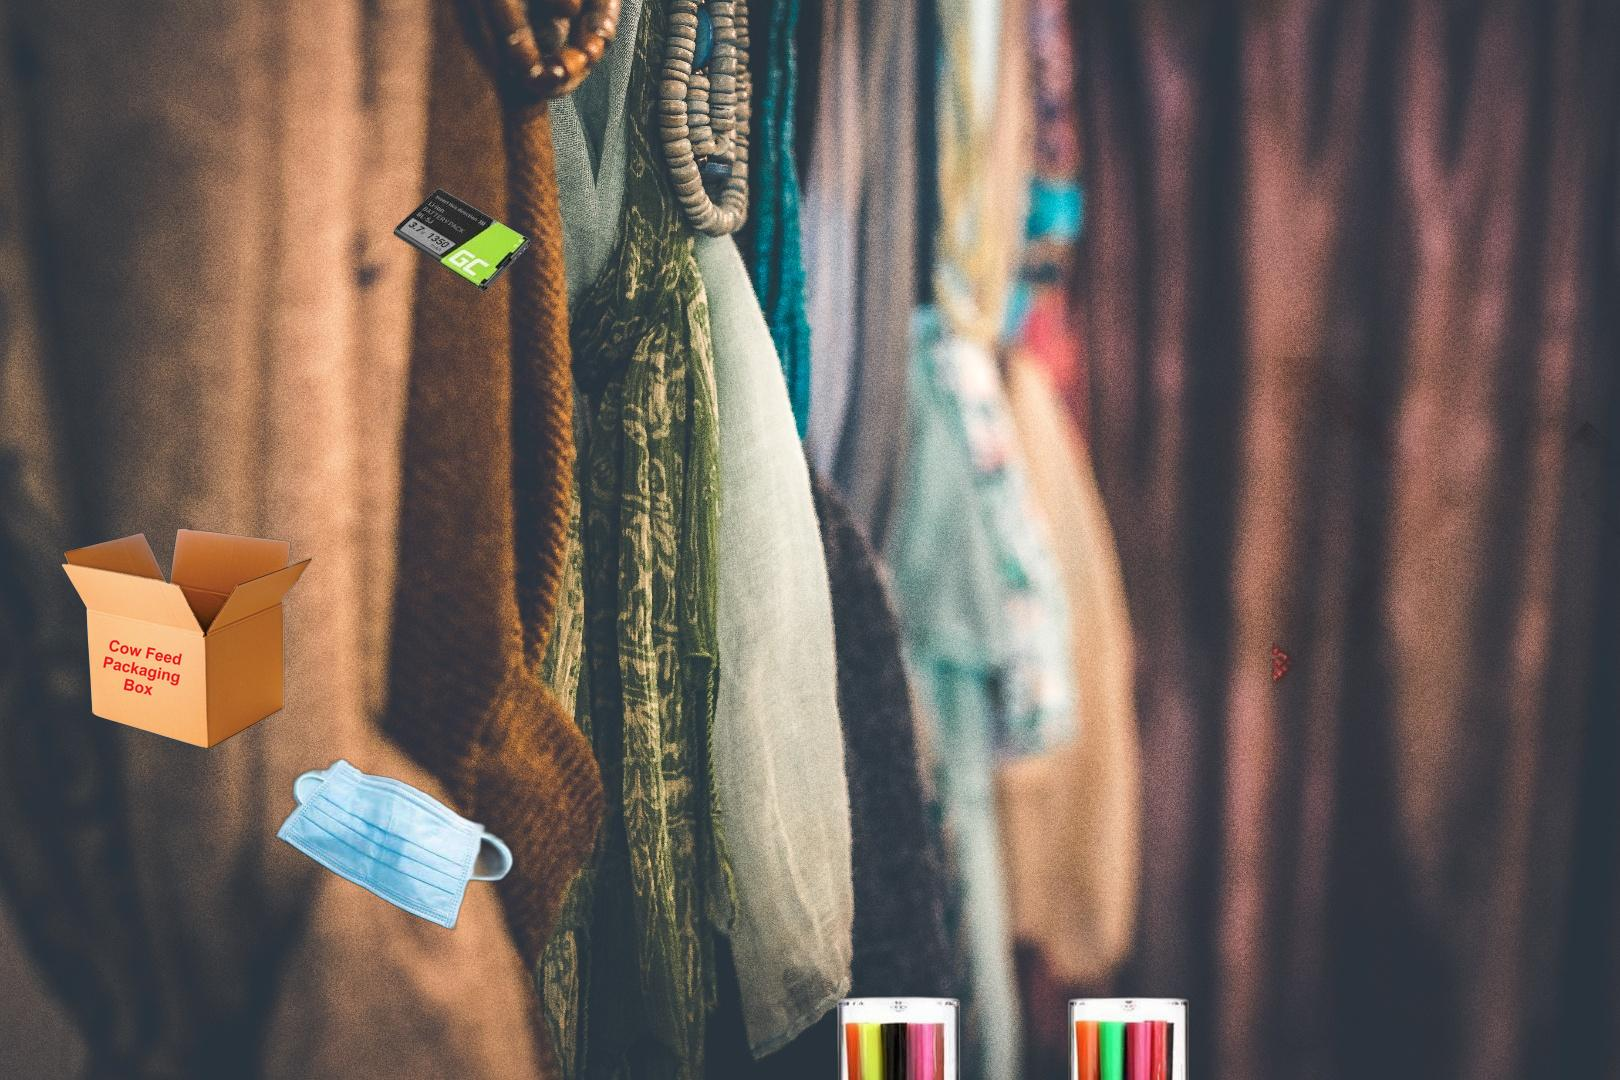battery: (391, 184, 533, 295)
paper: (1272, 357, 1620, 741)
penholder: (832, 993, 1197, 1080)
trash: (272, 753, 516, 933)
trashbox-cardboard: (61, 529, 312, 750)
